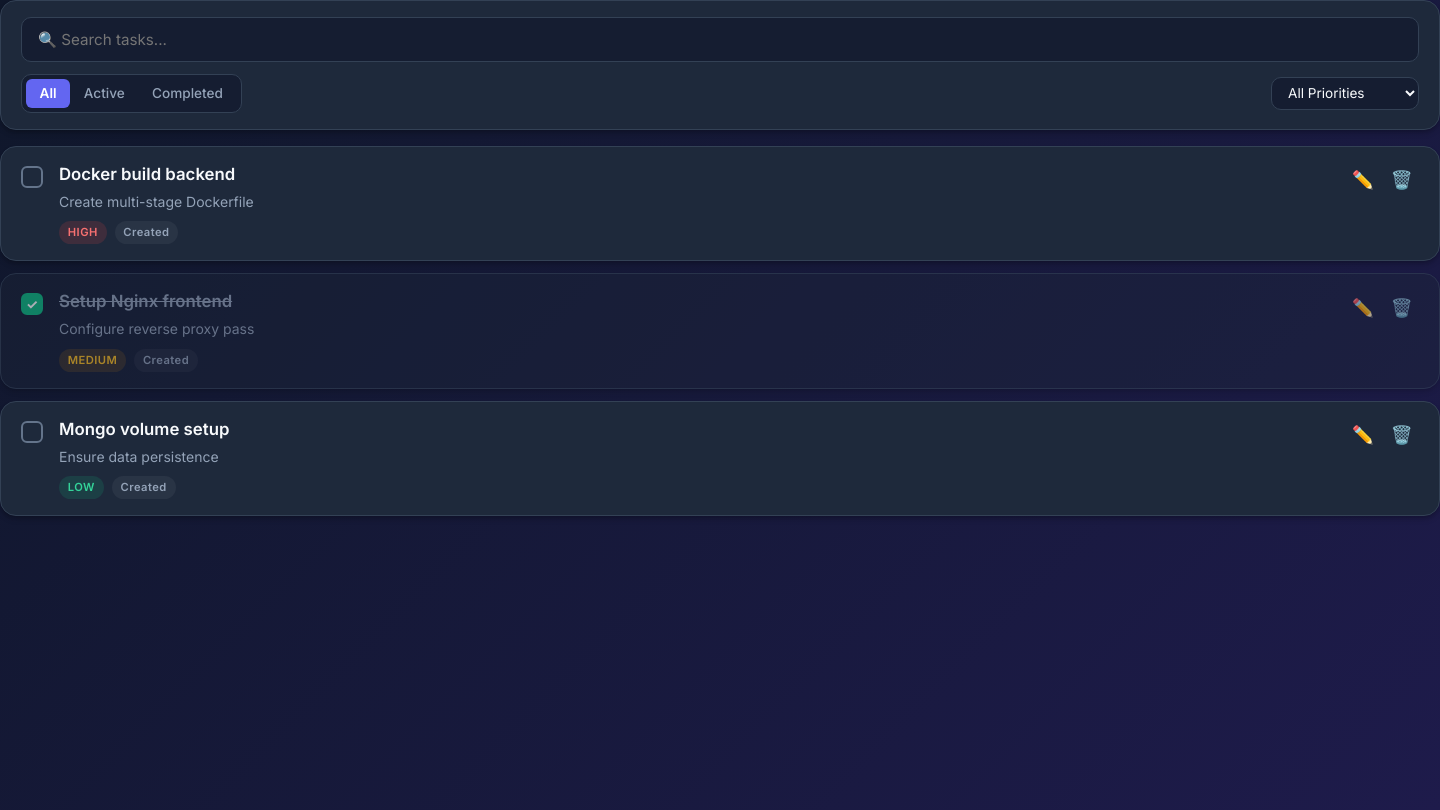
Test: TodoList Component Edge Cases › should filter by active status tab
The image size is (1440, 810).
Click the tab "Active" at (104, 93), box [70,79,138,108]
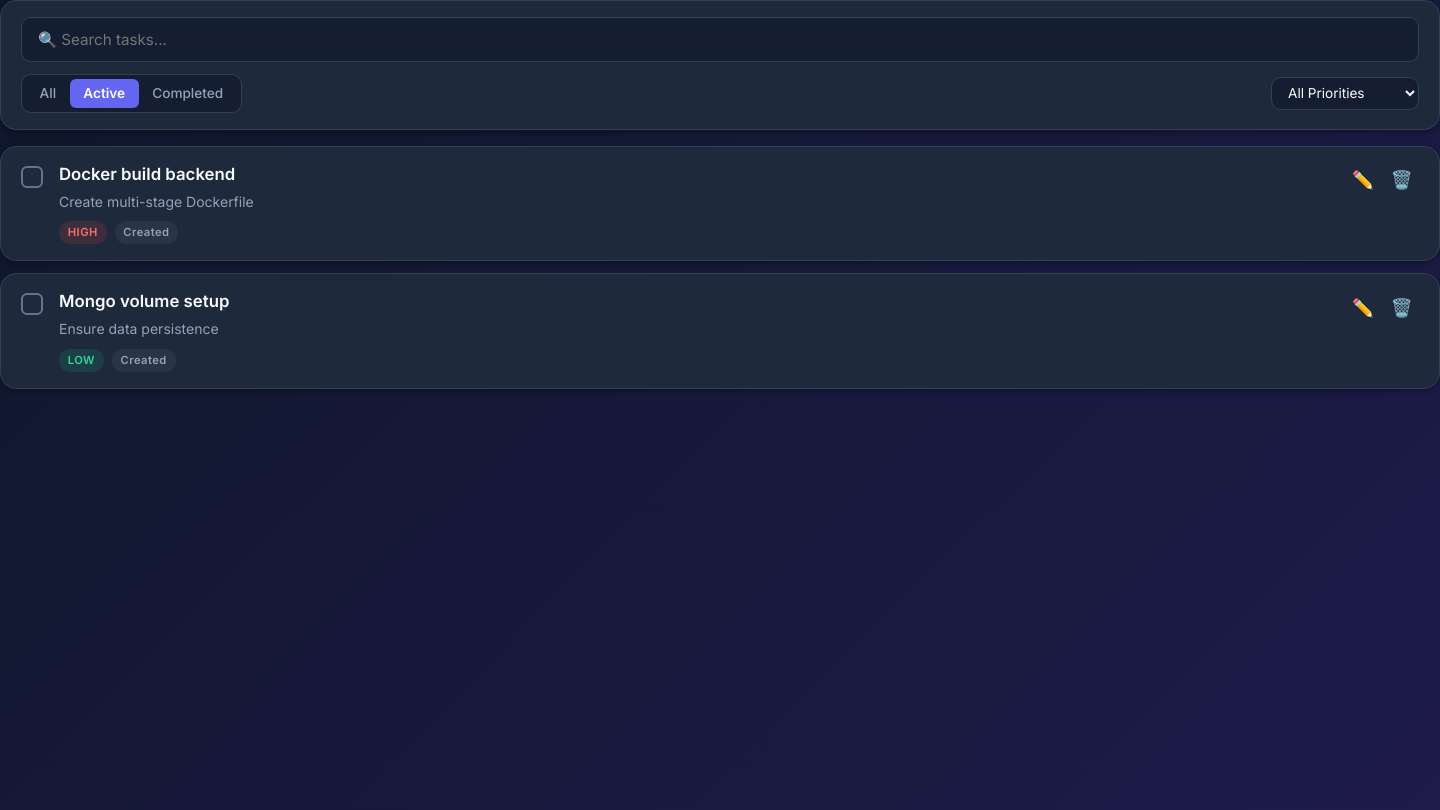
Expected: the heading "Docker build backend" is shown, [59,164,235,184]
Expected: the heading "Setup Nginx frontend" is gone
